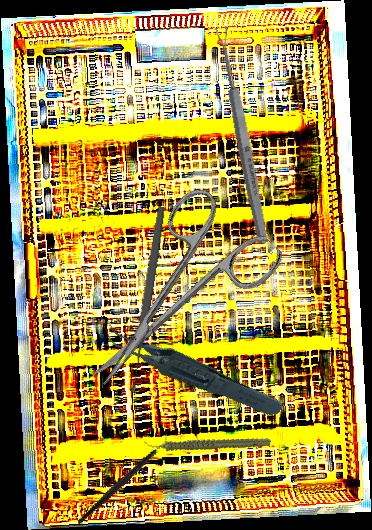Chopper: (58, 429, 189, 526)
Handpiece: (142, 412, 273, 473)
Iris Scissors: (52, 177, 288, 417)
Surgical Spoon: (214, 25, 271, 245), (126, 205, 168, 394)
Tissue Forceps: (97, 284, 286, 451)
